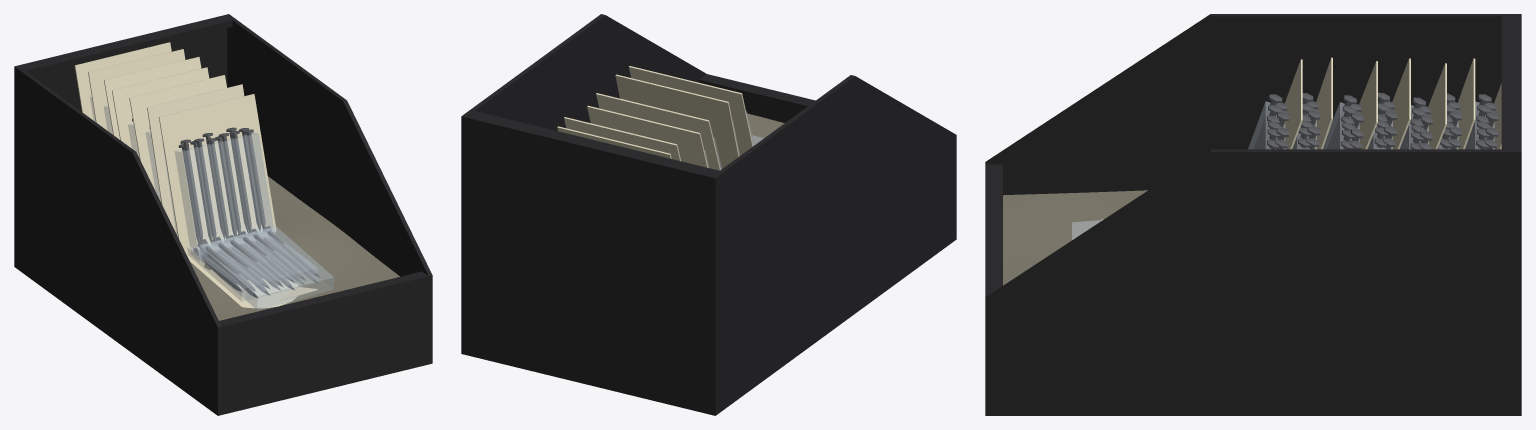
Rendered from bin_pacotes_de_pregos.dae.
The picture shows the model from 3 angles, left to right: view 1: azimuth 30°, elevation 25°; view 2: azimuth 150°, elevation 25°; view 3: azimuth 270°, elevation 25°; orthographic projection. The views are drawn at different scales.
Visible parts, largest first — view 1: Caixa bin, Pacote de pregos (blister) (×14), Monte pacotes de pregos; view 2: Caixa bin, Pacote de pregos (blister) (×6), Monte pacotes de pregos; view 3: Caixa bin, Pacote de pregos (blister) (×15), Monte pacotes de pregos.
Part boxes in pixels (<box>): Caixa bin: <box>14,14,432,415</box>; Pacote de pregos (blister) (×14): <box>74,42,334,309</box>; Monte pacotes de pregos: <box>190,176,399,320</box>; Caixa bin: <box>461,14,956,415</box>; Pacote de pregos (blister) (×6): <box>557,66,753,170</box>; Monte pacotes de pregos: <box>747,113,784,144</box>; Caixa bin: <box>985,14,1521,415</box>; Pacote de pregos (blister) (×15): <box>1248,57,1498,149</box>; Monte pacotes de pregos: <box>1003,190,1147,285</box>.
Bounding box in the file's own units: 140 × 230 × 125.
